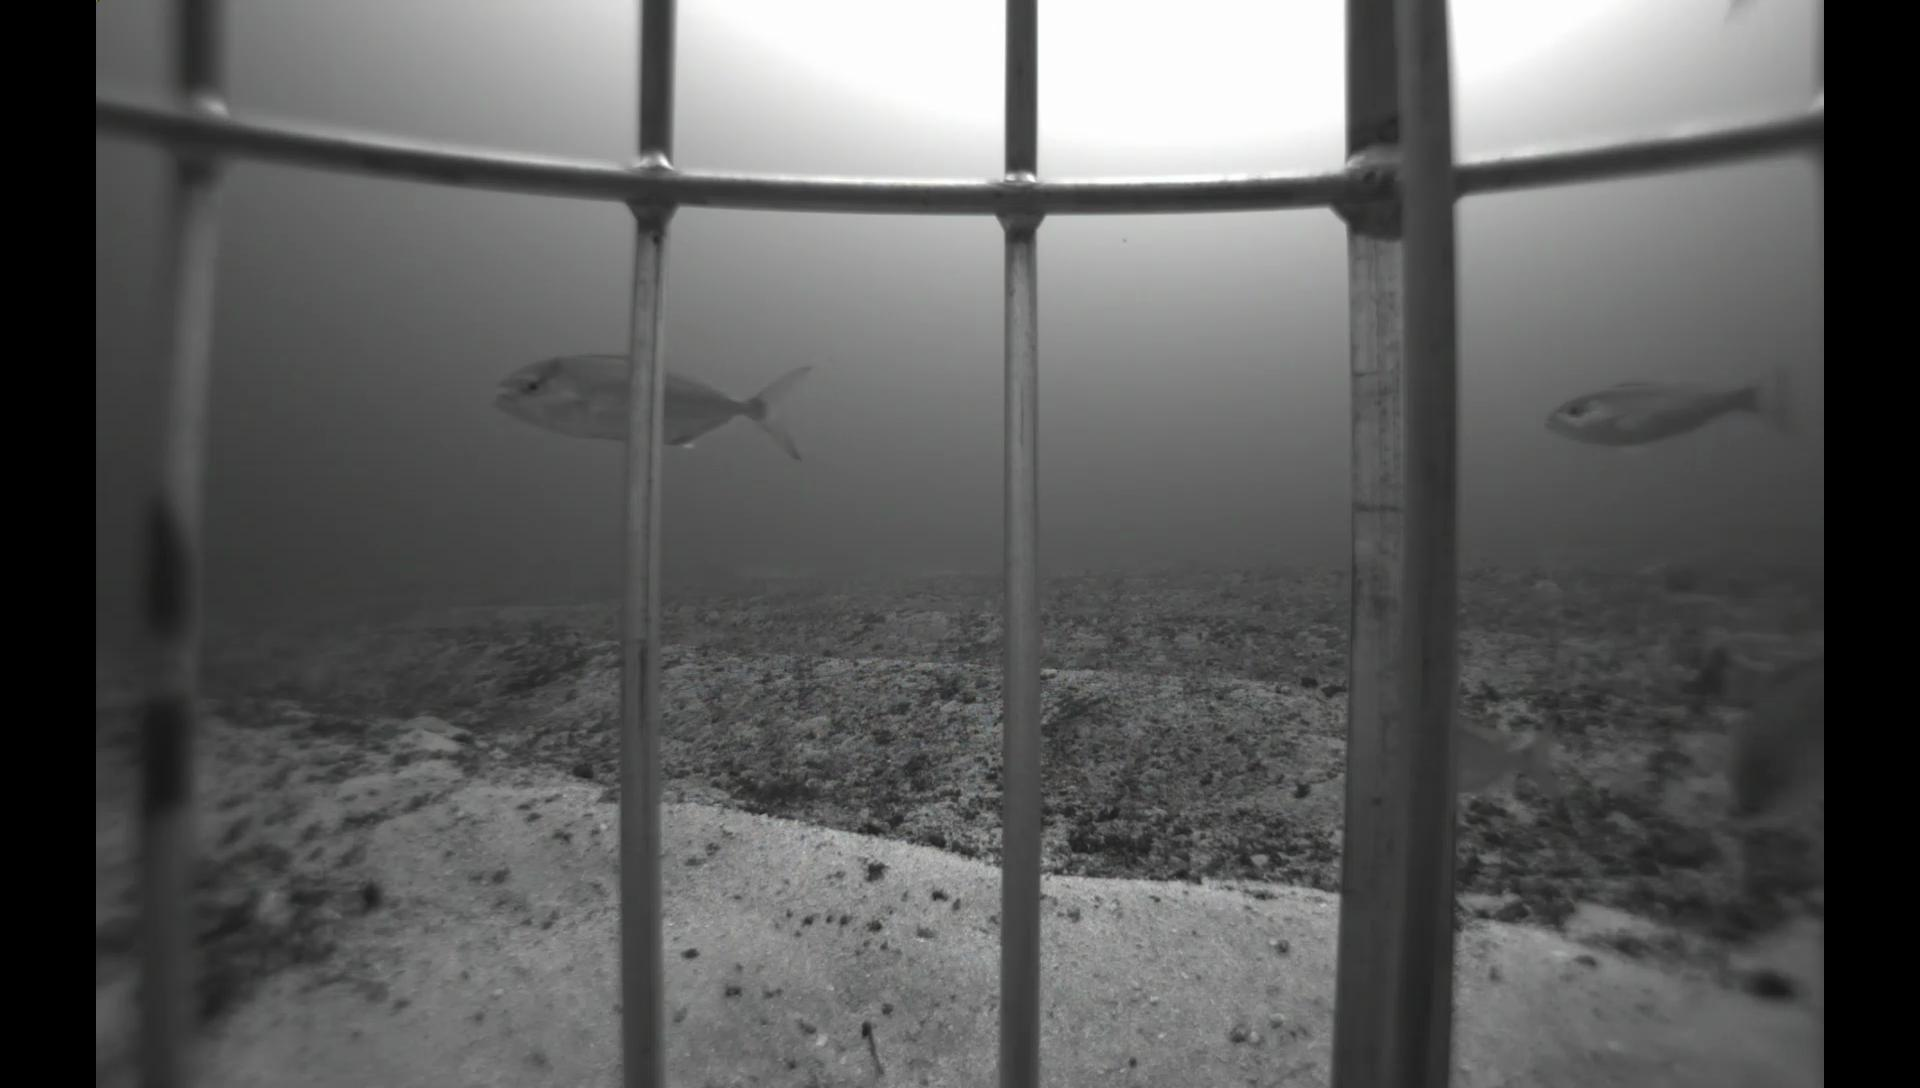CALAMUSPRORIDENS-170210605: (1455, 704, 1575, 823)
RHOMBOPLITESAURORUBENS-170152001: (1531, 346, 1797, 471), (1721, 653, 1821, 836), (1716, 0, 1789, 33)
SERIOLAFASCIATA-170113103: (485, 346, 843, 479)
